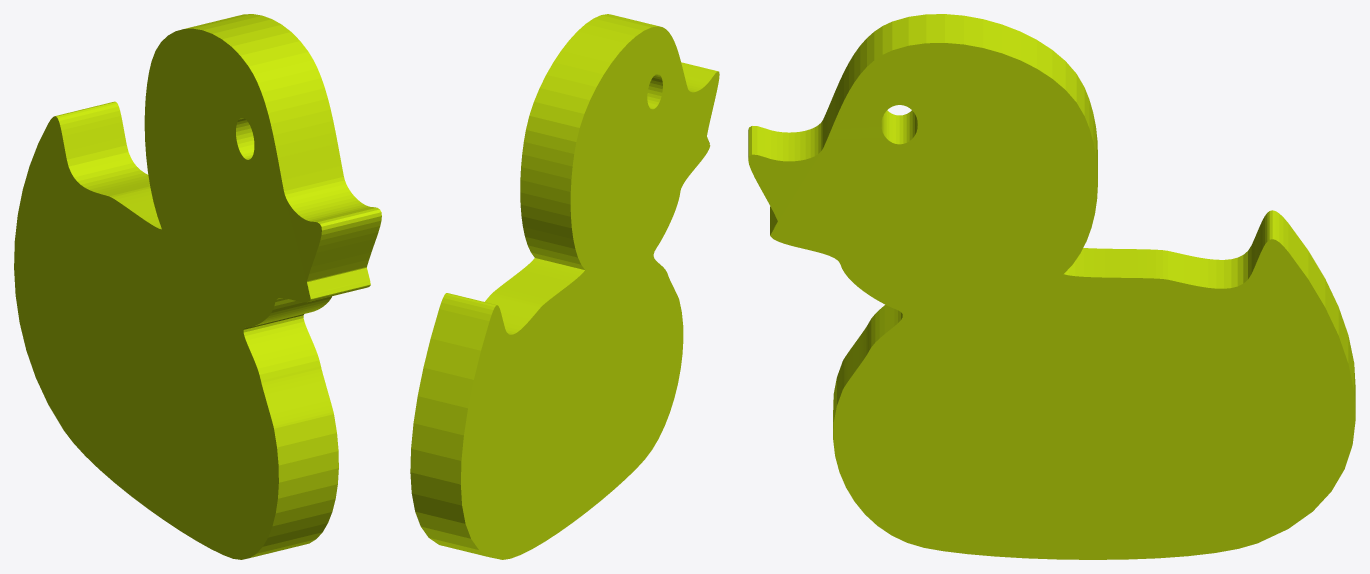
File: pato.glb
The picture shows the model from 3 angles, left to right: view 1: azimuth 30°, elevation 25°; view 2: azimuth 150°, elevation 25°; view 3: azimuth 270°, elevation 25°; orthographic projection. The views are drawn at different scales.
Visible parts, largest first — view 1: BezierCurve; view 2: BezierCurve; view 3: BezierCurve.
Part boxes in pixels (box(x1,y1,x2,y2)): BezierCurve: box(14, 14, 381, 559); BezierCurve: box(410, 14, 719, 559); BezierCurve: box(748, 14, 1355, 559).
Size of the model in its own units: 0.1001 by 0.8311 by 0.8852.
